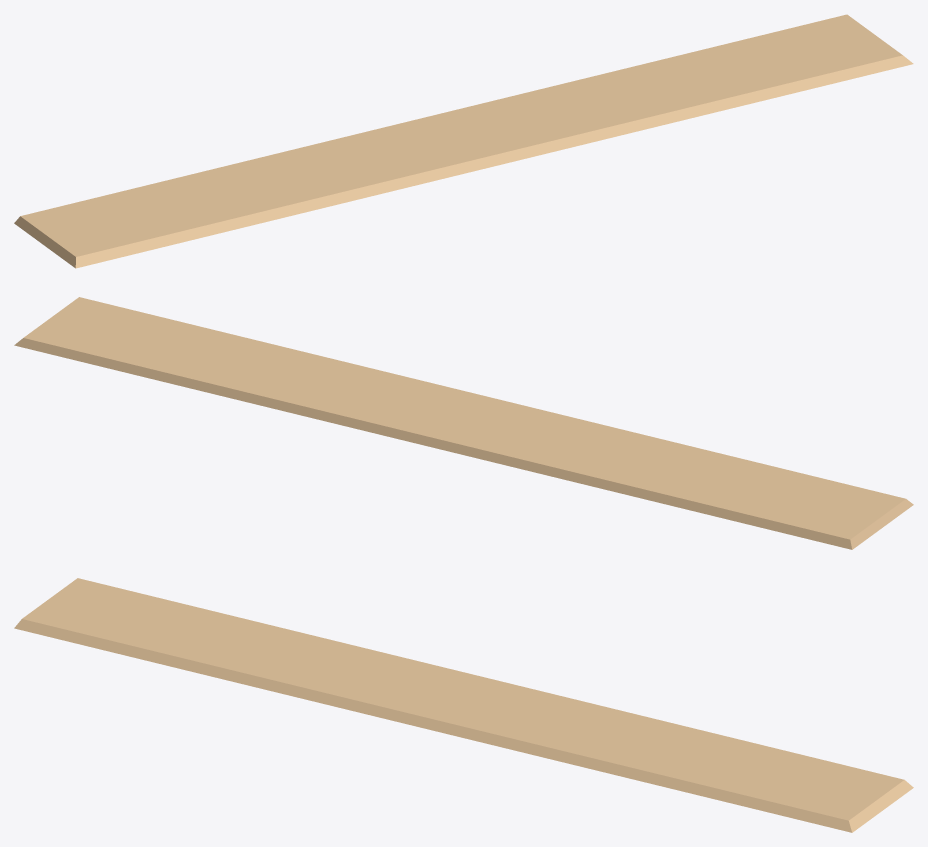
File: FirstBlendObject.fbx
The picture shows the model from 3 angles, top to bottom: view 1: azimuth 30°, elevation 25°; view 2: azimuth 150°, elevation 25°; view 3: azimuth 330°, elevation 25°; orthographic projection.
Parts seen in each view (by area): view 1: Plane; view 2: Plane; view 3: Plane.
Part boxes in pixels (box(x1,y1,x2,y2)): Plane: box(14, 14, 913, 268); Plane: box(14, 297, 913, 549); Plane: box(14, 578, 913, 832).
Size of the model in its own units: 499 by 4.41 by 63.58.
